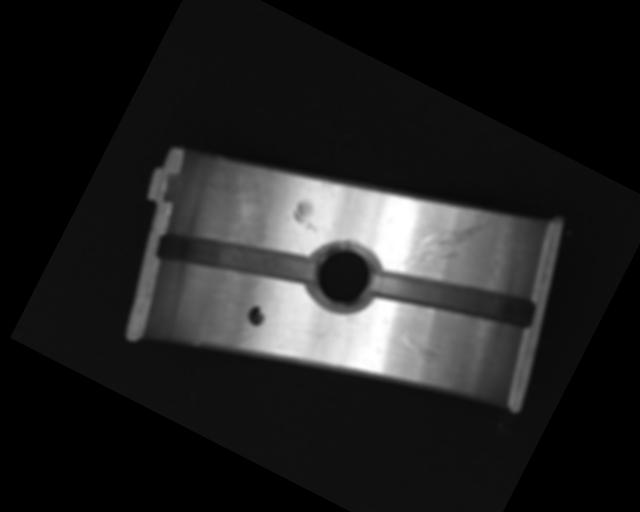blot: (243, 302, 269, 329)
bruise: (289, 196, 327, 233), (318, 177, 338, 194)
gap: (367, 231, 540, 362), (153, 195, 318, 324)
hole: (298, 231, 389, 324)
nick: (399, 190, 491, 292), (388, 327, 444, 366)
